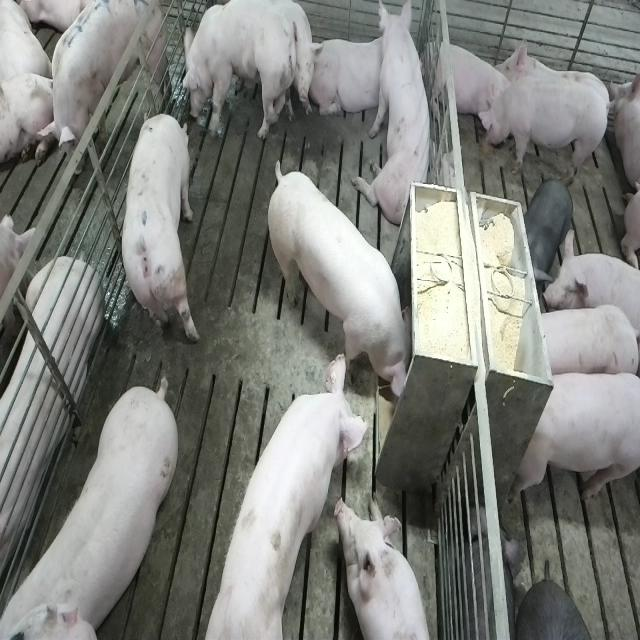Feeding: (271, 160, 421, 405)
Sitting: (354, 3, 436, 228), (178, 2, 297, 145)
Standing: (198, 356, 374, 636), (5, 373, 183, 635), (33, 0, 165, 193), (119, 109, 200, 349), (513, 370, 637, 510), (481, 78, 612, 186), (540, 229, 636, 341), (533, 306, 637, 378), (524, 173, 576, 280)
Sternal_lying: (0, 228, 101, 591), (338, 495, 438, 640), (429, 35, 506, 132), (309, 35, 389, 121)
